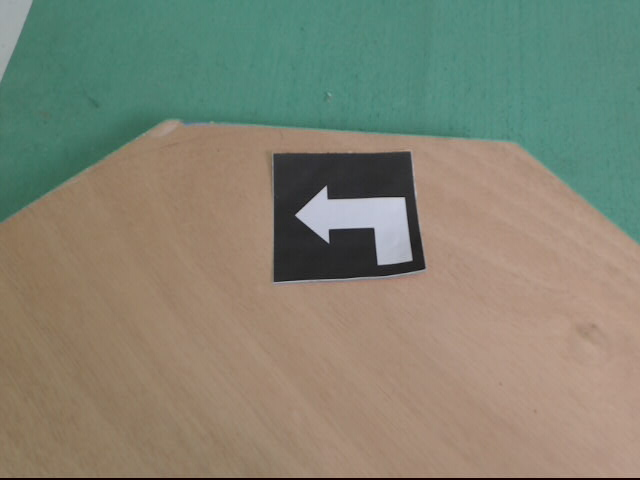left: (273, 152, 428, 281)
